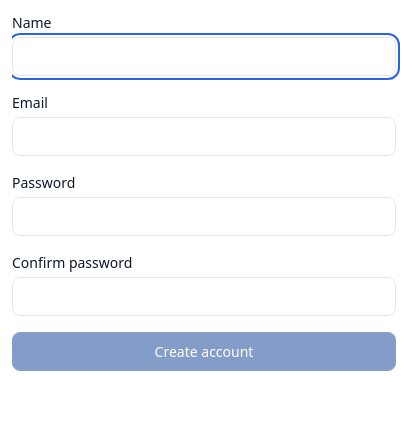
Test: SignupForm › shows error when passwords do not match
Type "Test User" into the field labelled "Name".
click(204, 56); type("Test User")  # box [12, 37, 396, 76]
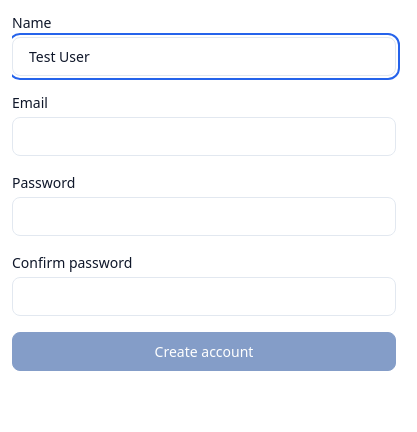
Type "test@example.com" into the field labelled "Email".
click(204, 136); type("test@example.com")  # box [12, 117, 396, 156]
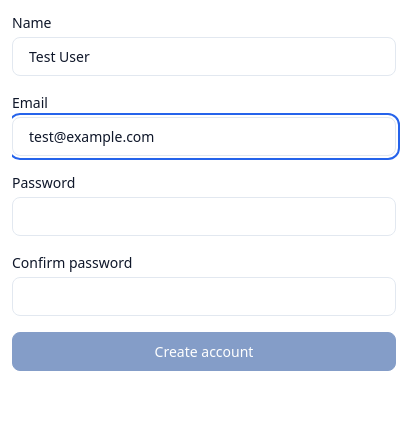
Type "ValidPass1" into the password field labelled "Password".
click(204, 216); type("ValidPass1")  # box [12, 197, 396, 236]
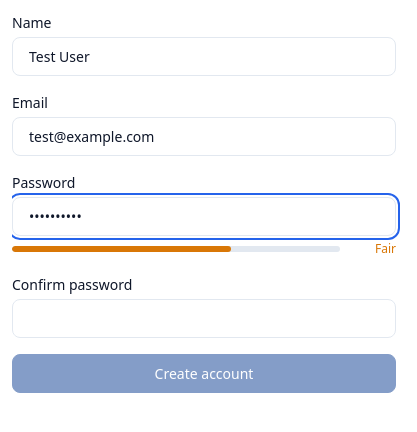
Press Tab
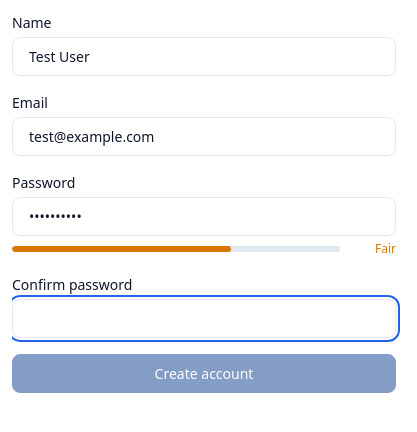
Type "BadPass2" into the password field labelled "Confirm password".
click(204, 318); type("BadPass2")  # box [12, 299, 396, 338]
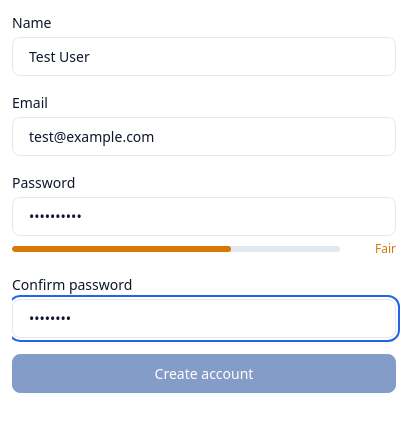
Press Tab
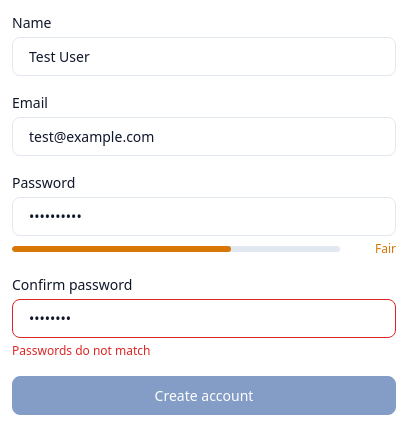
Expected: the text "Passwords do not match" is shown, [12, 342, 150, 359]
